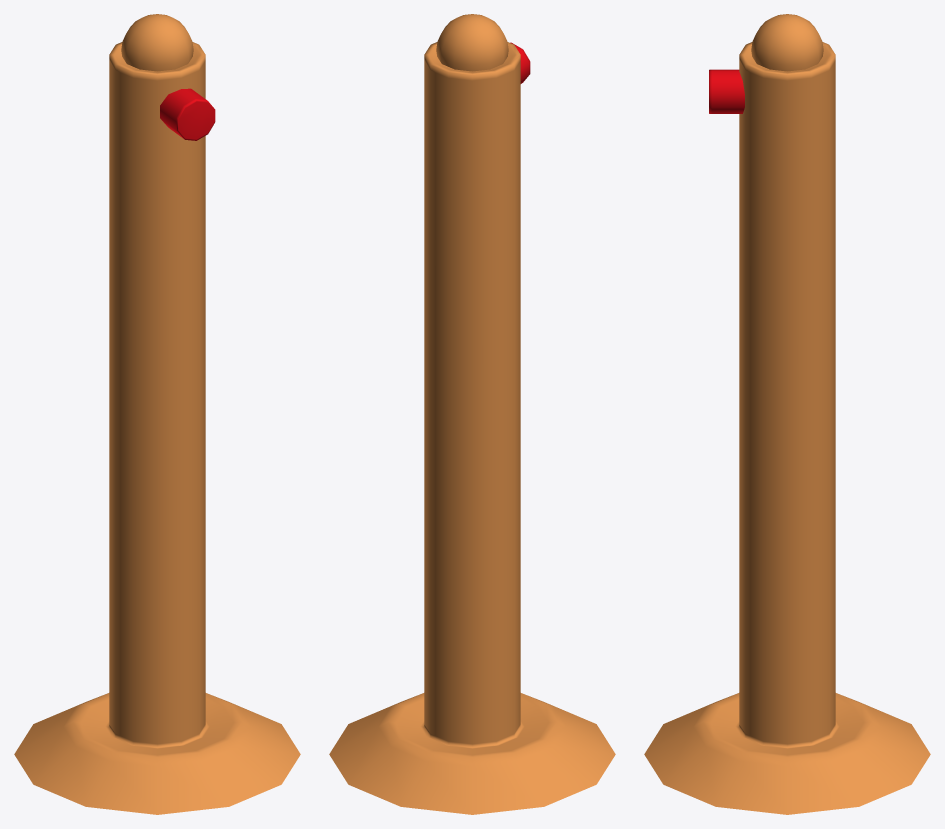
File: Pole.fbx
3 renders of one model, left to right at view 1: azimuth 30°, elevation 25°; view 2: azimuth 150°, elevation 25°; view 3: azimuth 270°, elevation 25°, orthographic.
Visible parts, largest first — view 1: Circle; view 2: Circle; view 3: Circle.
Part boxes in pixels (x1=…): Circle: x1=14, y1=14, x2=300, y2=814; Circle: x1=329, y1=14, x2=615, y2=814; Circle: x1=644, y1=14, x2=930, y2=814.
Bounding box in the file's own units: 30 × 85.12 × 30.
